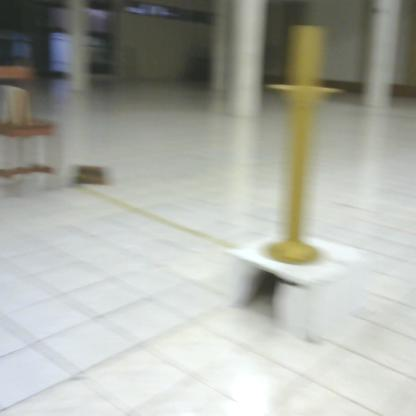pole: (260, 22, 346, 282)
